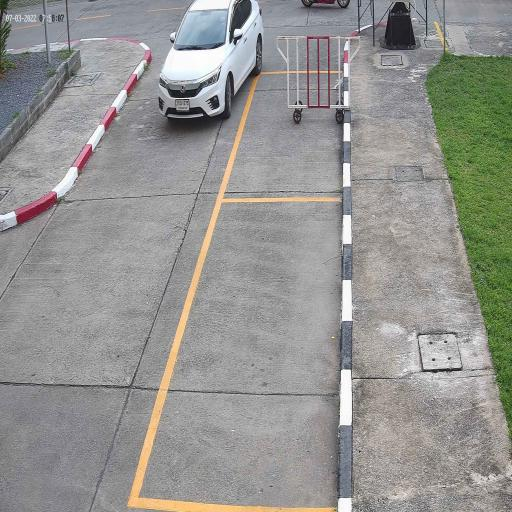car: (157, 0, 265, 123)
